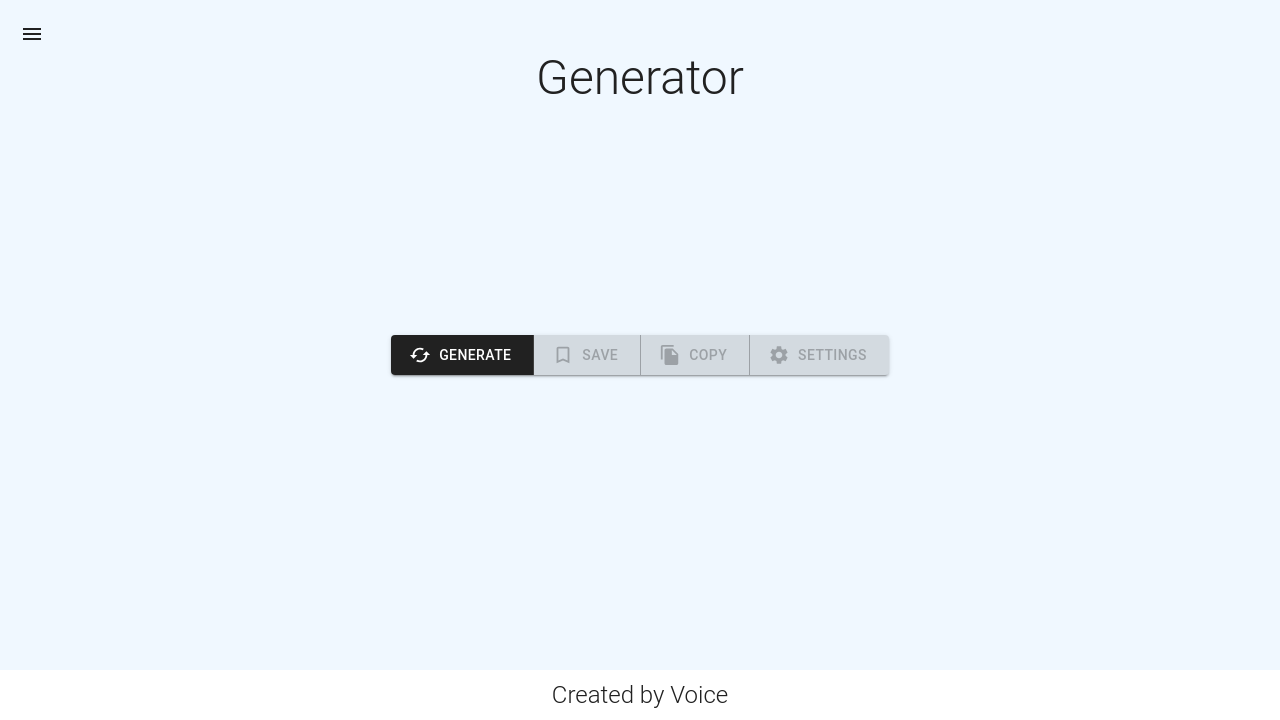
Scenario: Generate page › Copy message shows
The image size is (1280, 720).
Click the button "generate": {"x": 463, "y": 355} x1=391 y1=335 x2=534 y2=376
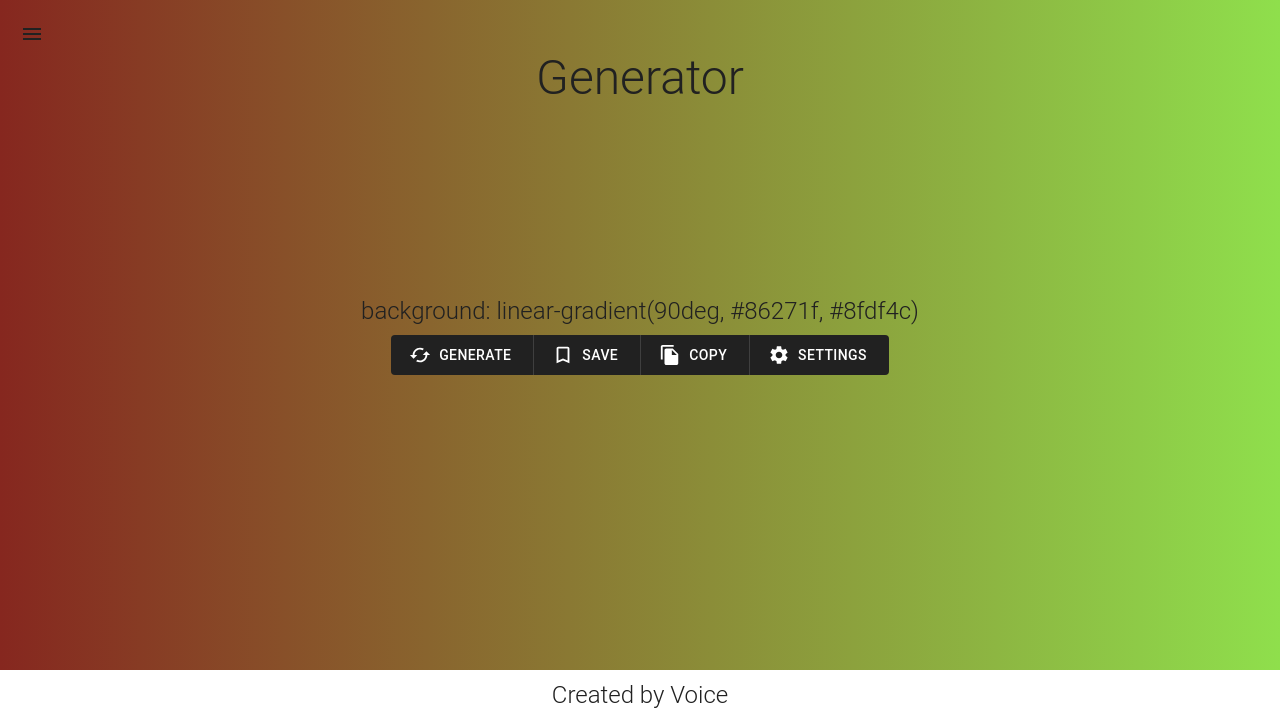
Click the button "copy": {"x": 696, "y": 355} x1=641 y1=335 x2=750 y2=376
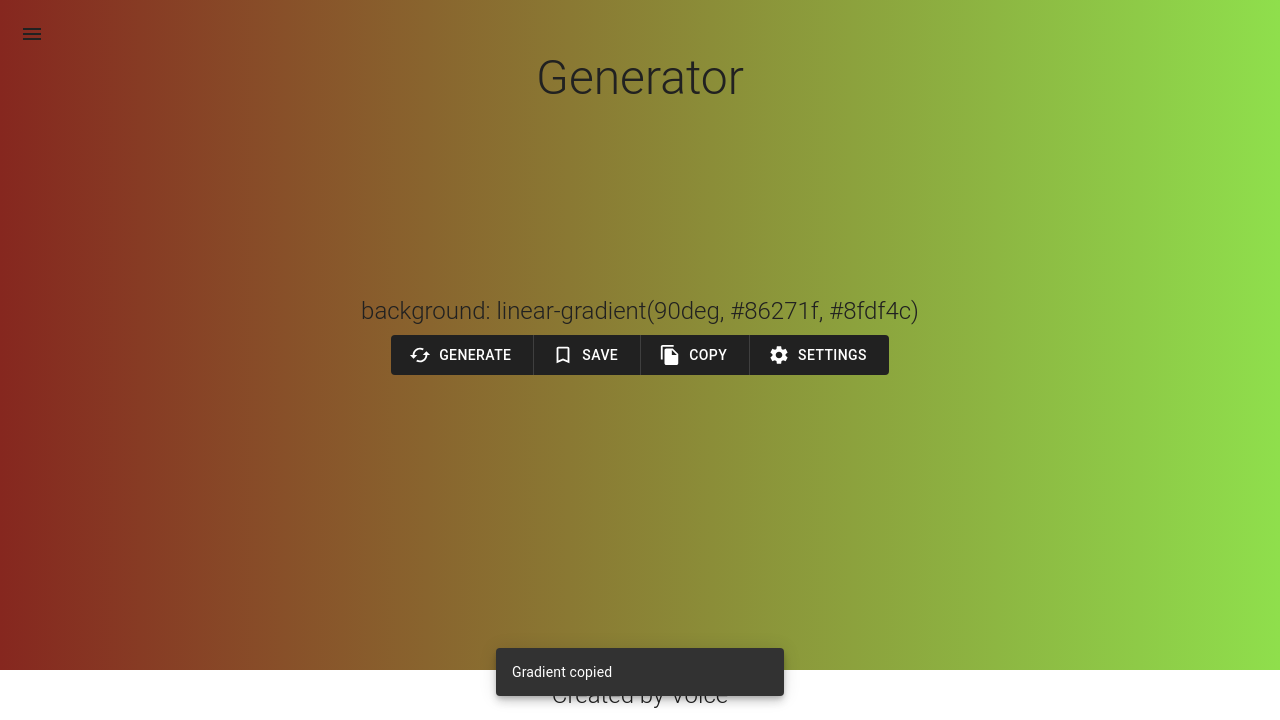
Check: the text "Gradient copied" is shown, box x1=512 y1=664 x2=612 y2=680
